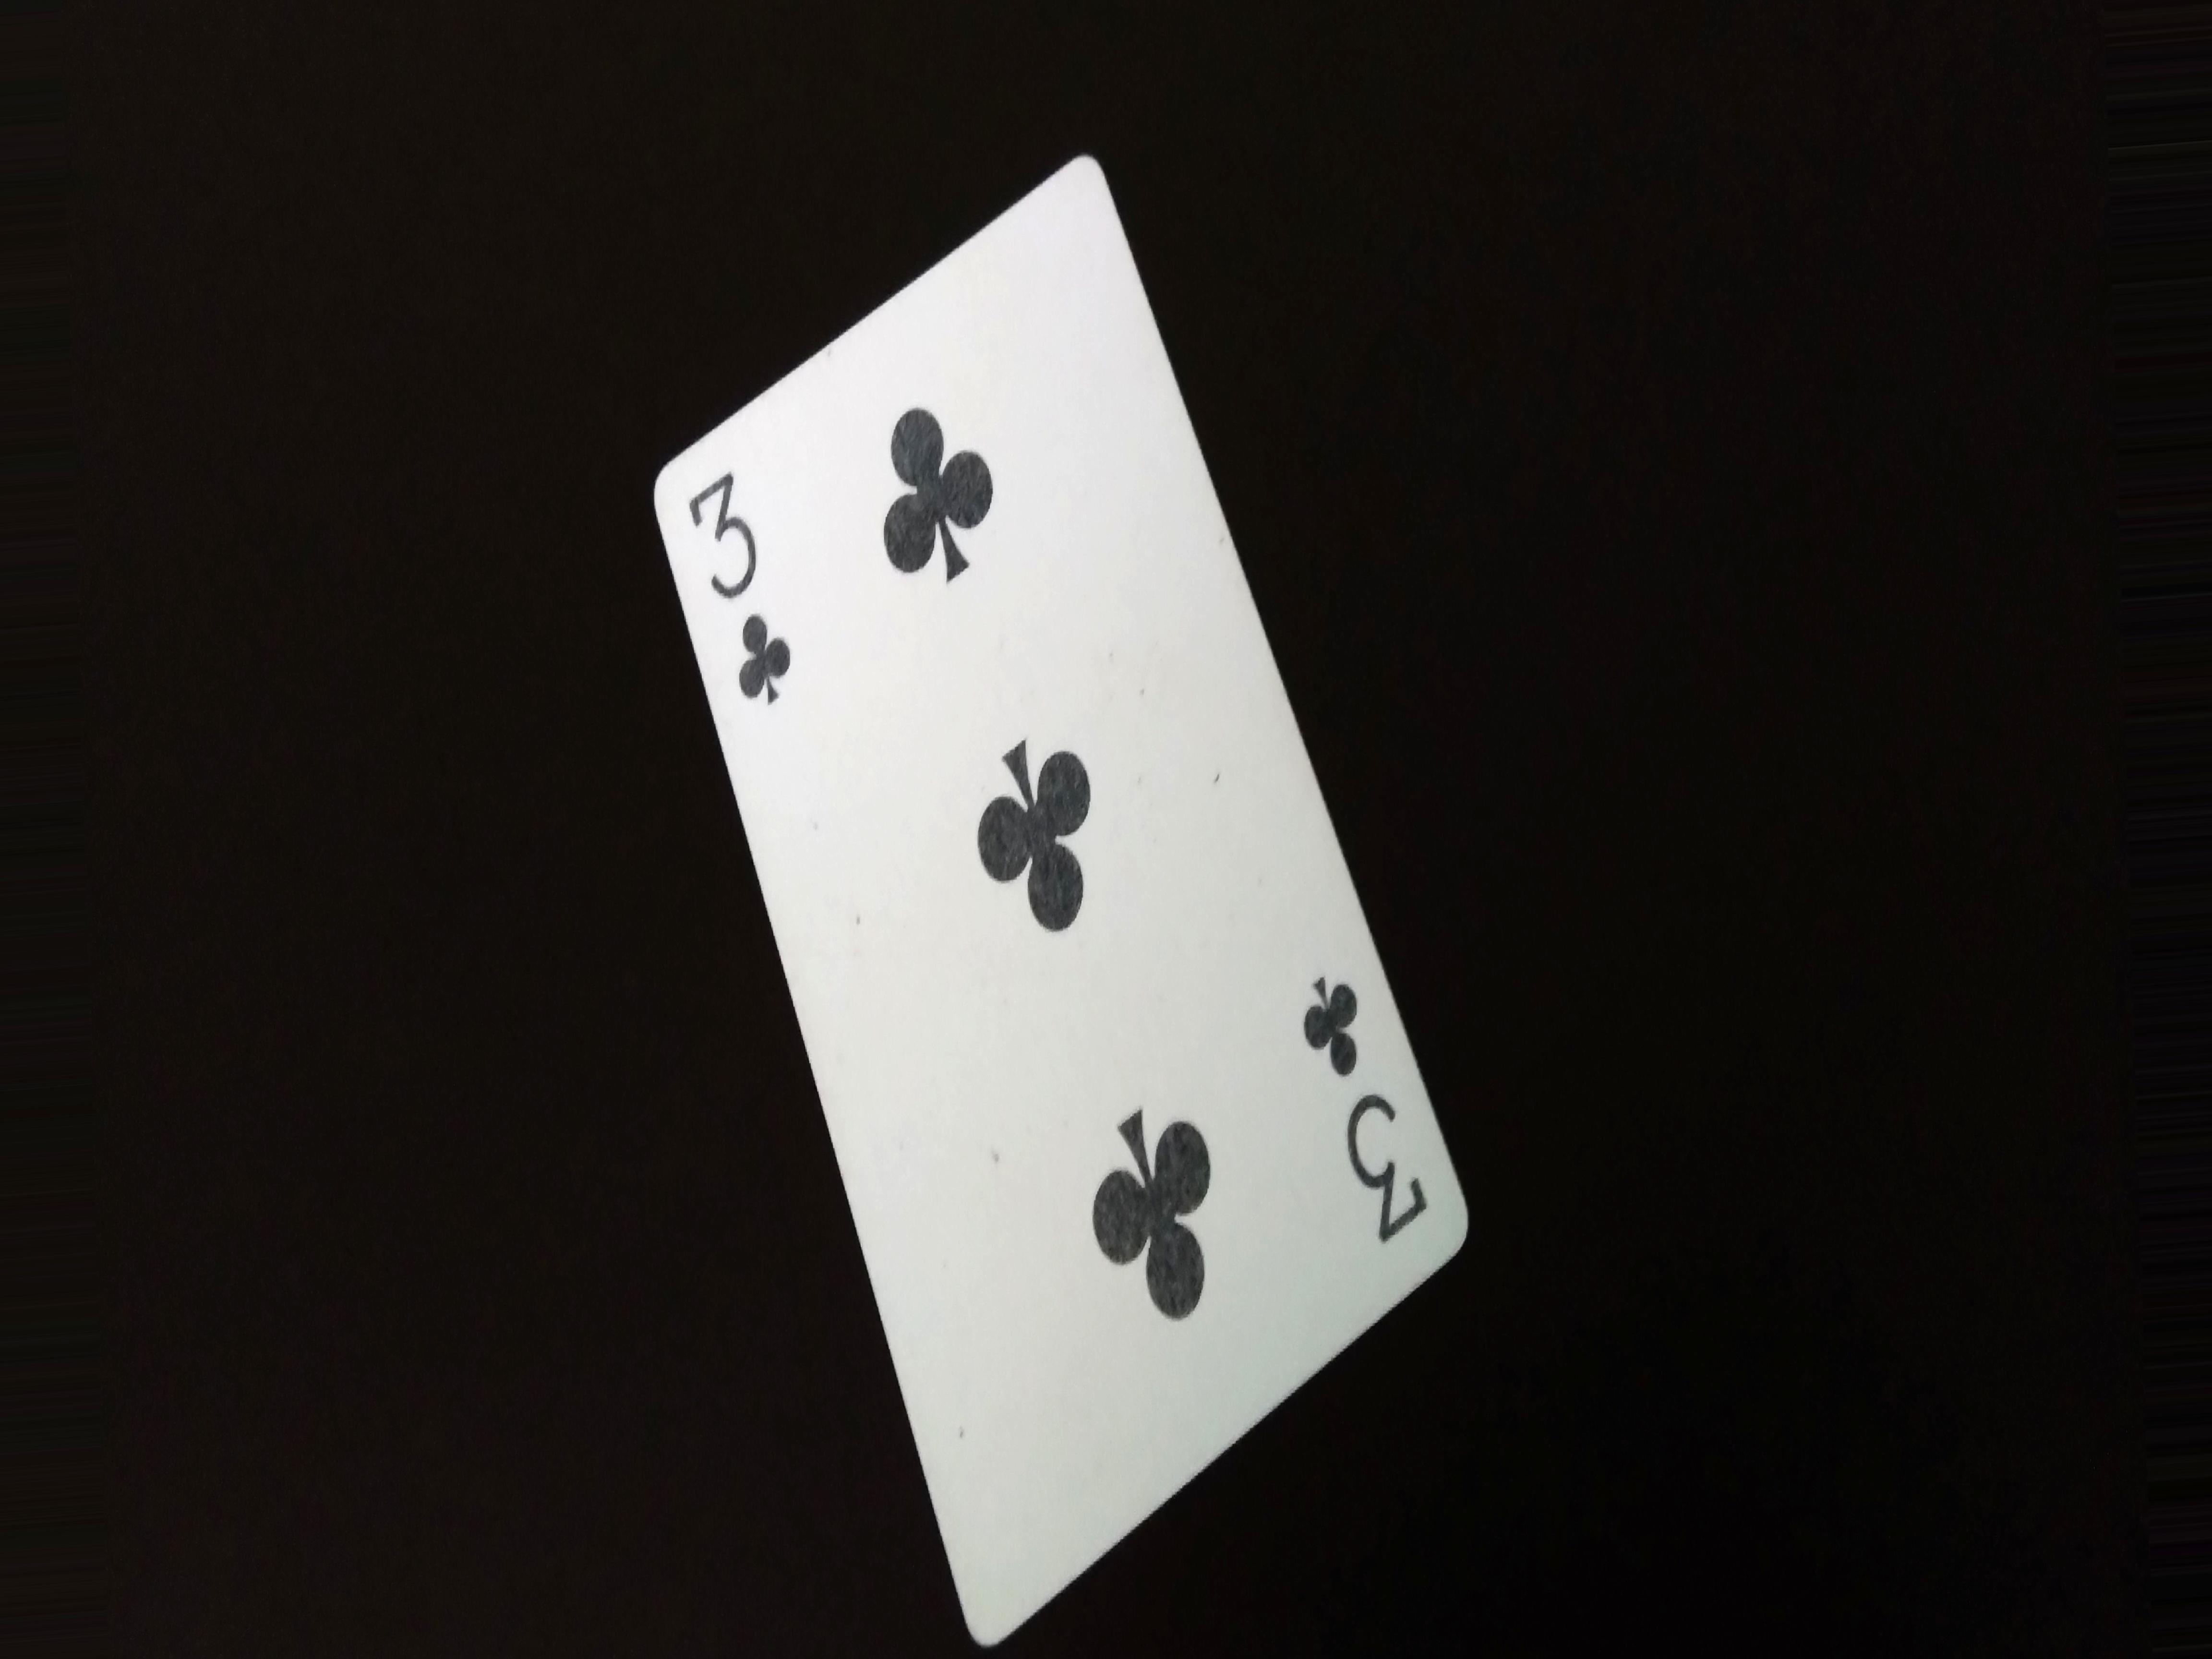3C: (1273, 962, 1482, 1262)
